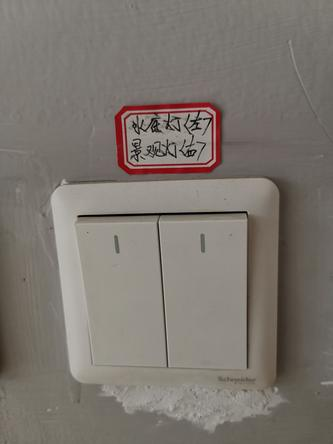switch: (148, 210, 259, 373), (68, 210, 168, 372)
